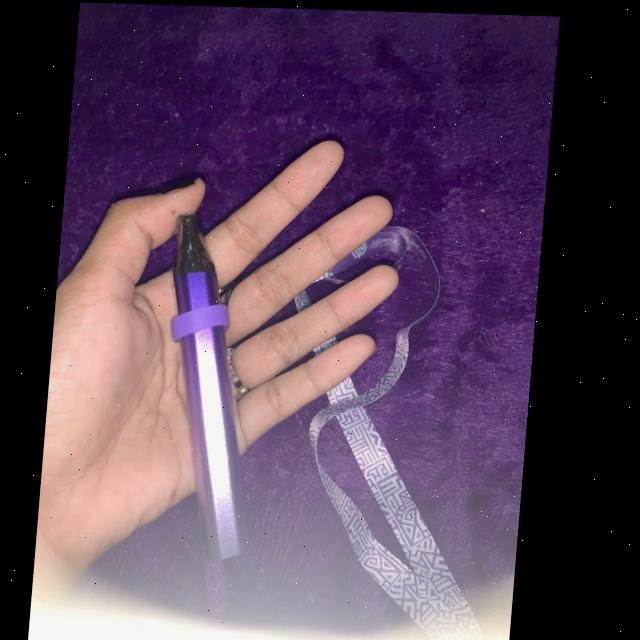vape: (159, 211, 286, 558)
